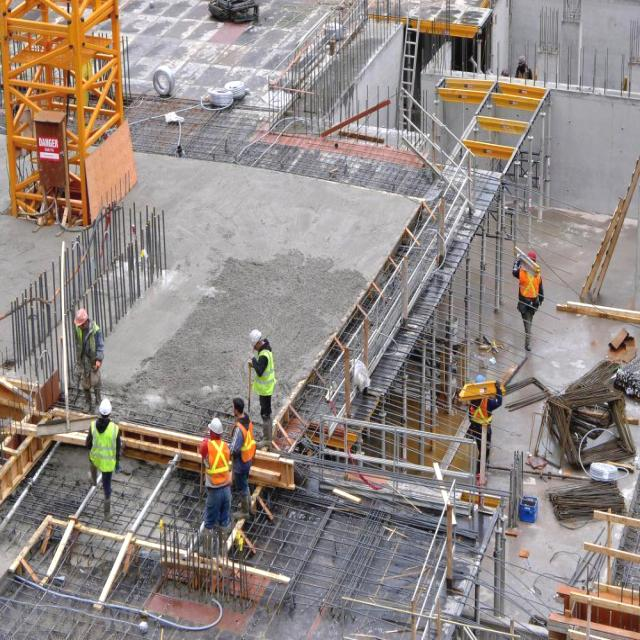head_helmet: (242, 325, 263, 347), (71, 303, 92, 324), (205, 416, 223, 436), (96, 399, 111, 417), (522, 247, 538, 263), (474, 374, 489, 384)
person: (88, 399, 128, 504), (458, 372, 502, 464), (200, 415, 230, 531), (66, 305, 98, 393), (254, 320, 277, 431), (515, 250, 538, 348), (234, 402, 250, 495)
vest: (90, 424, 118, 472), (205, 436, 229, 488), (234, 417, 255, 462), (255, 350, 274, 392), (76, 329, 97, 360), (470, 396, 491, 423), (520, 275, 538, 297)
